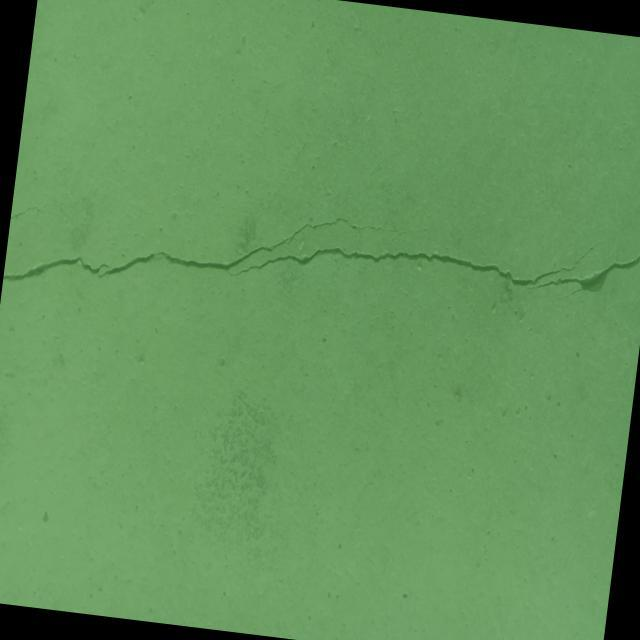crack: (2, 175, 640, 359), (10, 202, 46, 223)
